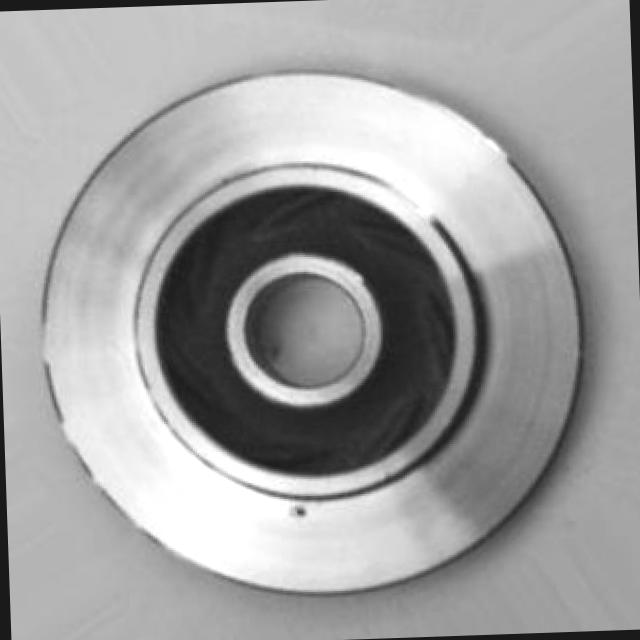Defect: (278, 494, 310, 528)
